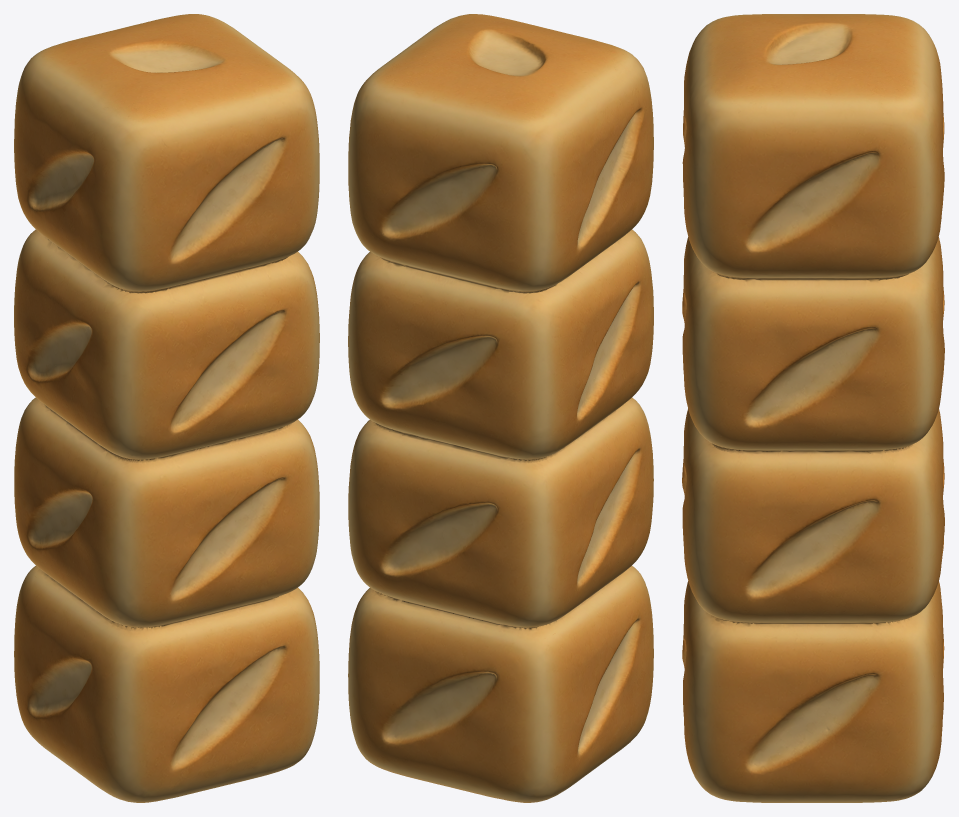
Rendered from bread-cubes.glb.
3 views of the same model, side by side, from view 1: azimuth 30°, elevation 25°; view 2: azimuth 150°, elevation 25°; view 3: azimuth 270°, elevation 25° (orthographic). The views are drawn at different scales.
Size of the model in its own units: 0.6231 by 1.9 by 0.6233.
Materials: 1 (1 with a texture image).
